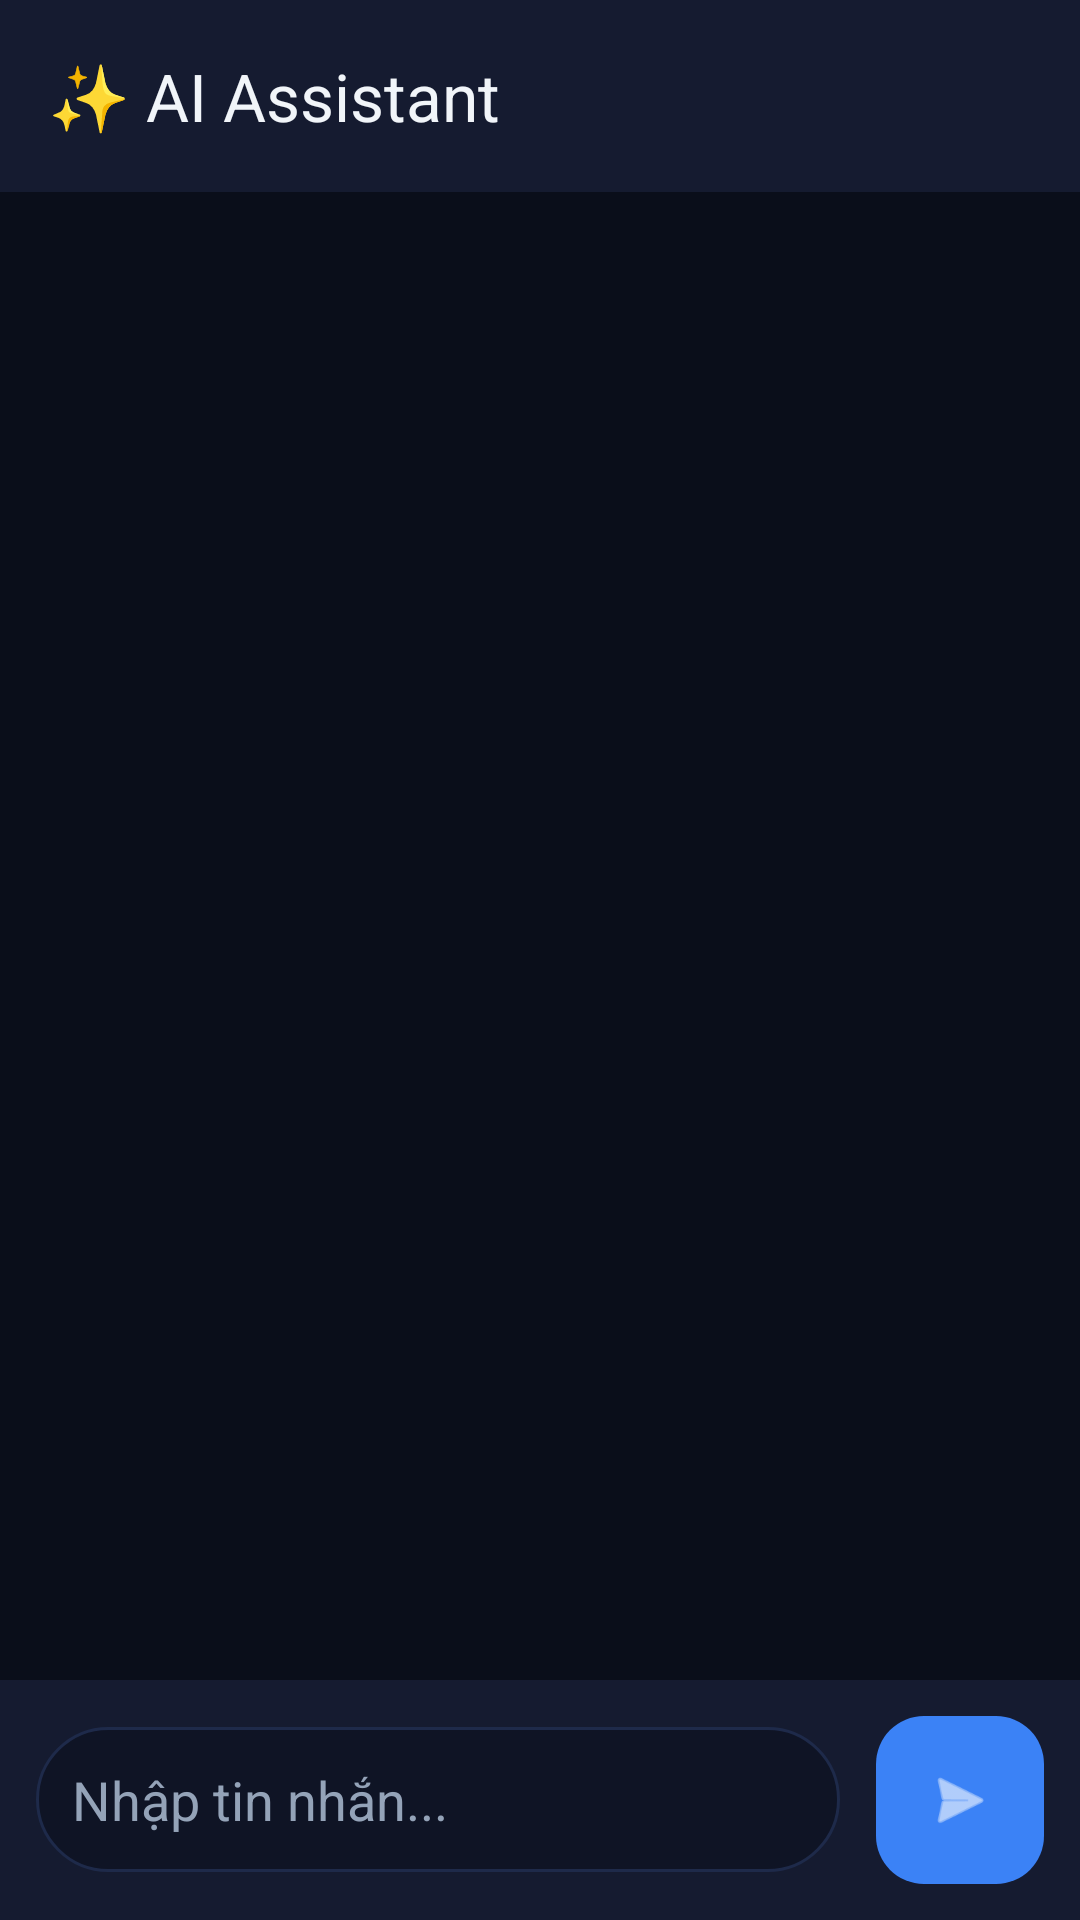

Locate icon controls on the screen. Image size 1080 x 1920, boxes as (x1, y1, x2, y2).
send: (876, 1716, 1044, 1884)
